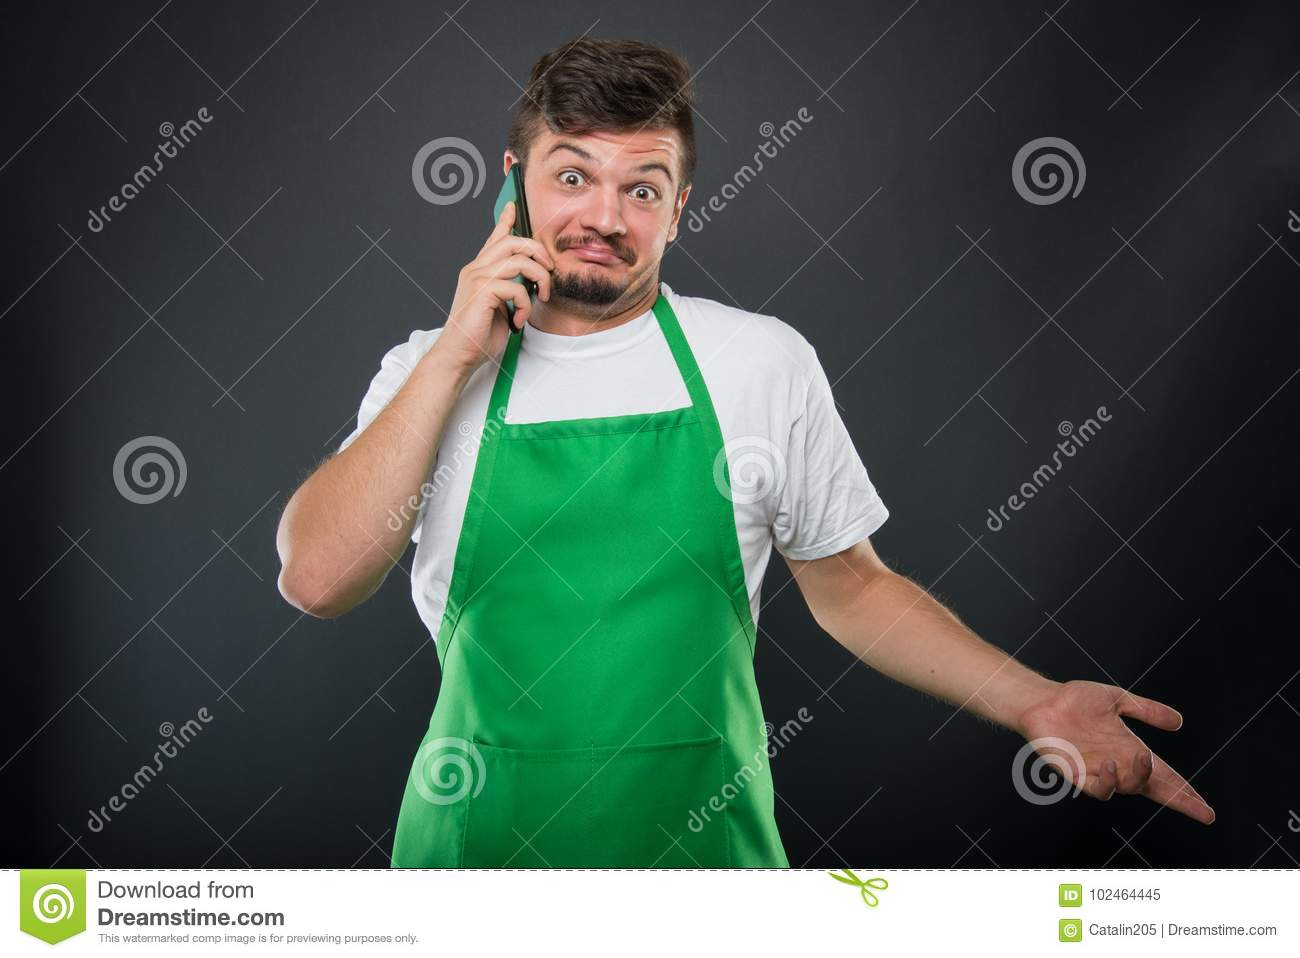phone: (488, 167, 541, 309)
talk: (438, 133, 673, 379)
